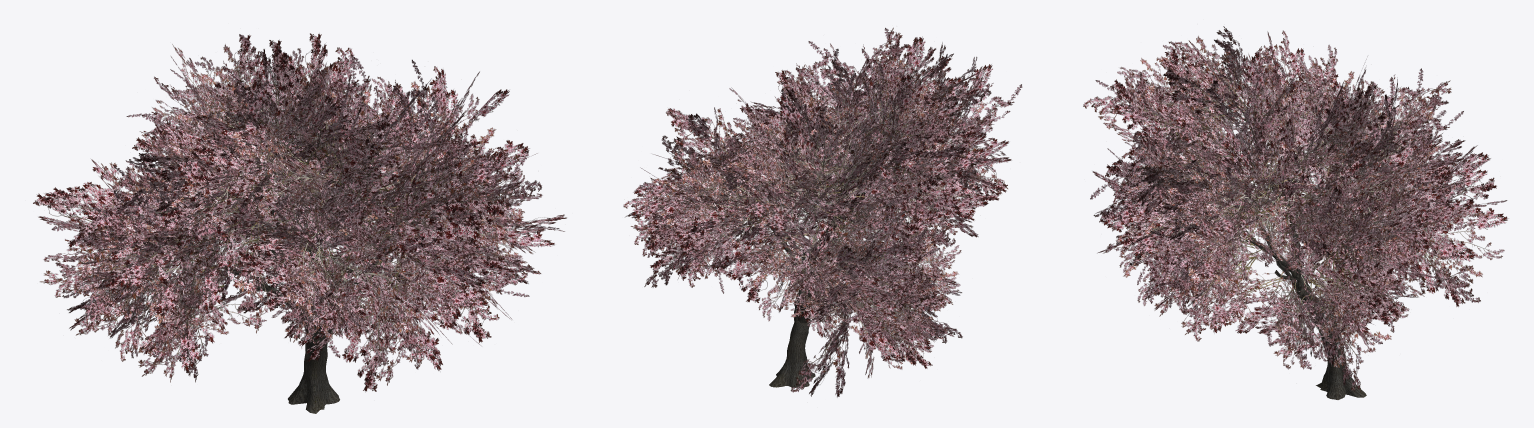
File: japanese_cherry_tree_low-poly.glb
3 renders of one model, left to right at view 1: azimuth 30°, elevation 25°; view 2: azimuth 150°, elevation 25°; view 3: azimuth 270°, elevation 25°, orthographic. The views are drawn at different scales.
Parts seen in each view (by area): view 1: Object_4, Object_7, Object_5, Object_3, Object_6, Object_8, Object_2; view 2: Object_4, Object_6, Object_5, Object_7, Object_3, Object_8, Object_2; view 3: Object_5, Object_4, Object_6, Object_3, Object_7, Object_8, Object_2.
Part boxes in pixels (x1,y1,x2,y2): Object_4: [62, 44, 524, 361]; Object_7: [33, 33, 566, 391]; Object_5: [43, 47, 564, 369]; Object_3: [40, 44, 540, 385]; Object_6: [38, 44, 554, 371]; Object_8: [51, 34, 559, 357]; Object_2: [209, 203, 389, 413]; Object_4: [632, 57, 1005, 377]; Object_6: [631, 37, 1011, 397]; Object_5: [623, 37, 996, 392]; Object_7: [646, 32, 1007, 396]; Object_3: [625, 27, 1007, 378]; Object_8: [640, 28, 1022, 348]; Object_2: [767, 188, 870, 388]; Object_5: [1083, 30, 1480, 354]; Object_4: [1093, 36, 1507, 369]; Object_6: [1092, 31, 1508, 366]; Object_3: [1103, 26, 1454, 392]; Object_7: [1099, 49, 1496, 335]; Object_8: [1090, 48, 1476, 369]; Object_2: [1239, 158, 1366, 399].
Size of the model in its own units: 10.73 by 9.23 by 10.69.
7 materials, 7 textured.
